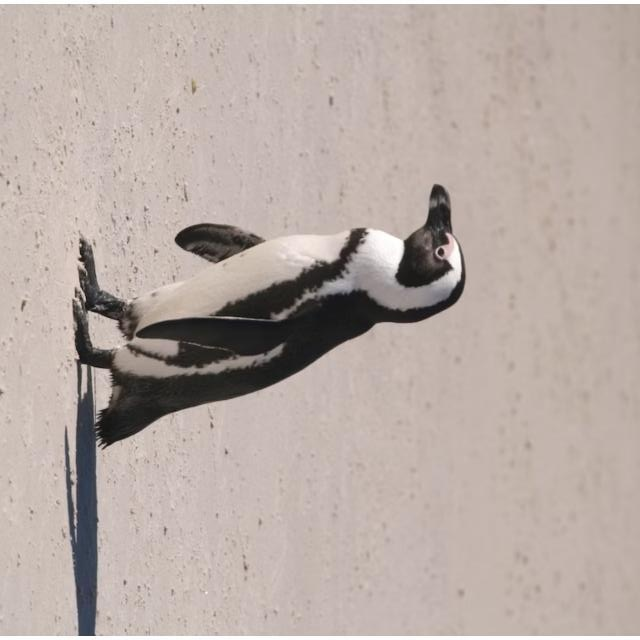penguin: (72, 183, 467, 448)
